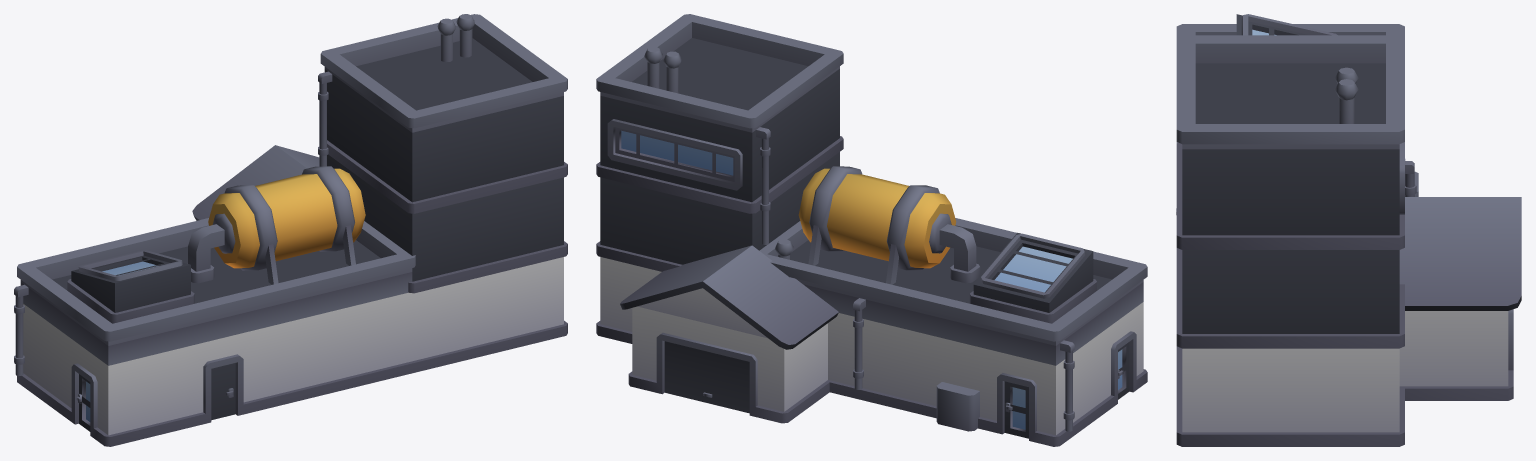
The model's file is industrial-building-r.glb.
3 renders of one model, left to right at view 1: azimuth 30°, elevation 25°; view 2: azimuth 150°, elevation 25°; view 3: azimuth 270°, elevation 25°, orthographic. The views are drawn at different scales.
Visible parts, largest first — view 1: building-r; view 2: building-r; view 3: building-r.
Part boxes in pixels (x1=…): building-r: x1=14, y1=14, x2=567, y2=446; building-r: x1=596, y1=14, x2=1147, y2=446; building-r: x1=1176, y1=14, x2=1521, y2=446.
Bounding box in the file's own units: 2.48 × 1.39 × 1.27.
